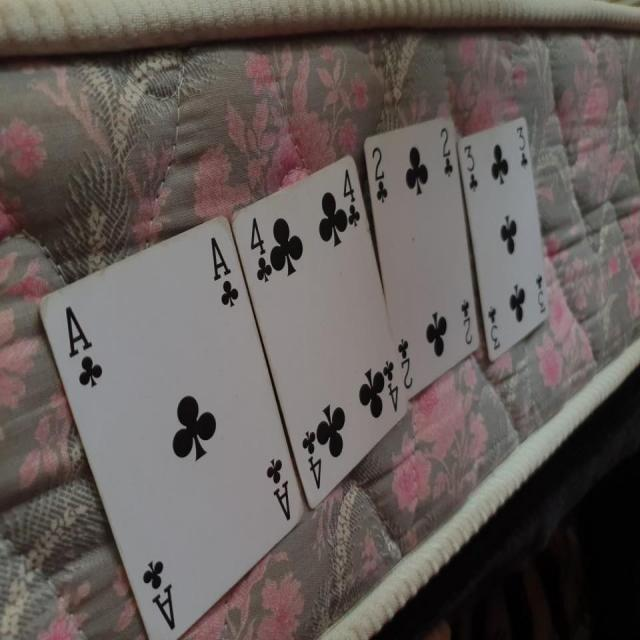2 Trefoils: (362, 116, 482, 401)
3 Trefoils: (456, 114, 550, 361)
4 Trefoils: (232, 153, 412, 515)
A Trefoils: (36, 211, 306, 640)
